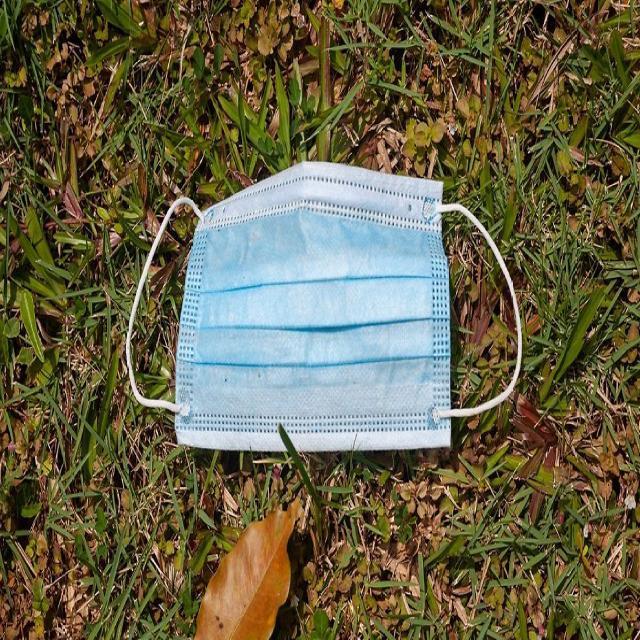face mask: (128, 173, 520, 454)
